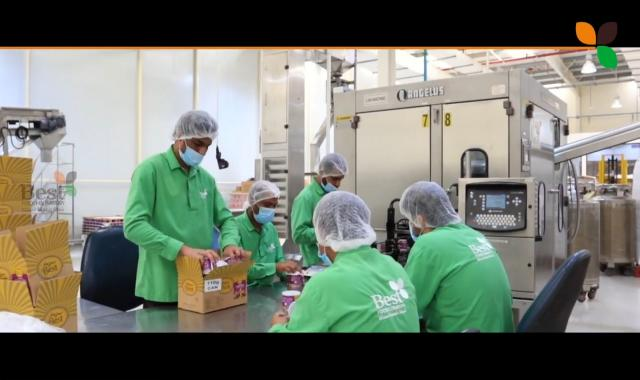hairnet: (314, 188, 376, 253), (399, 179, 458, 226), (172, 110, 218, 152), (247, 180, 279, 216), (316, 153, 347, 181)
